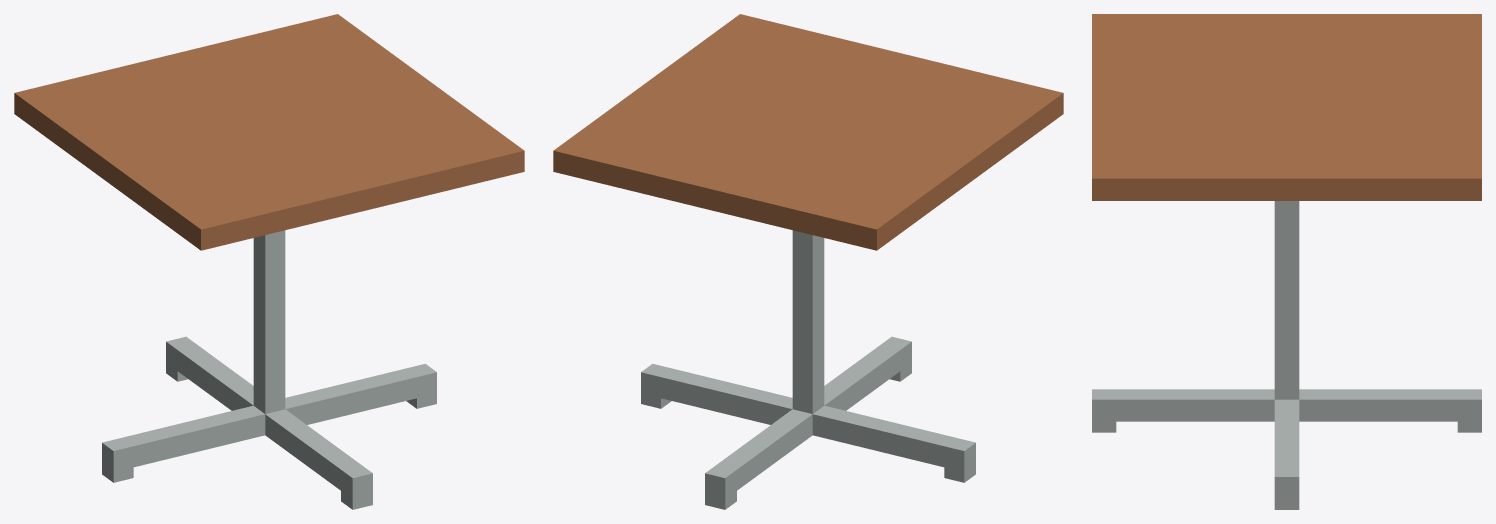
The model's file is table_07.glb.
The picture shows the model from 3 angles, left to right: view 1: azimuth 30°, elevation 25°; view 2: azimuth 150°, elevation 25°; view 3: azimuth 270°, elevation 25°; orthographic projection. The views are drawn at different scales.
Parts seen in each view (by area): view 1: Untitled; view 2: Untitled; view 3: Untitled.
Boxes of the visible parts, bbox=[...] form: Untitled: bbox=[14, 14, 524, 509]; Untitled: bbox=[553, 14, 1063, 509]; Untitled: bbox=[1092, 14, 1481, 509].
Size of the model in its own units: 0.96 by 0.9 by 0.96.
Materials: 1 (1 with a texture image).
